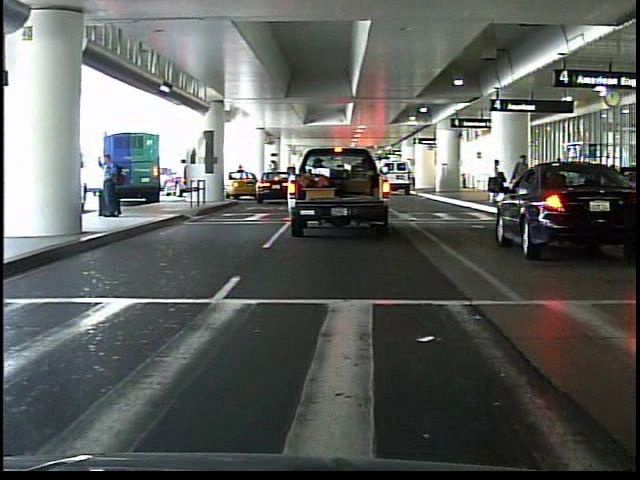person: (98, 151, 128, 225), (487, 155, 513, 210), (511, 152, 532, 208)
